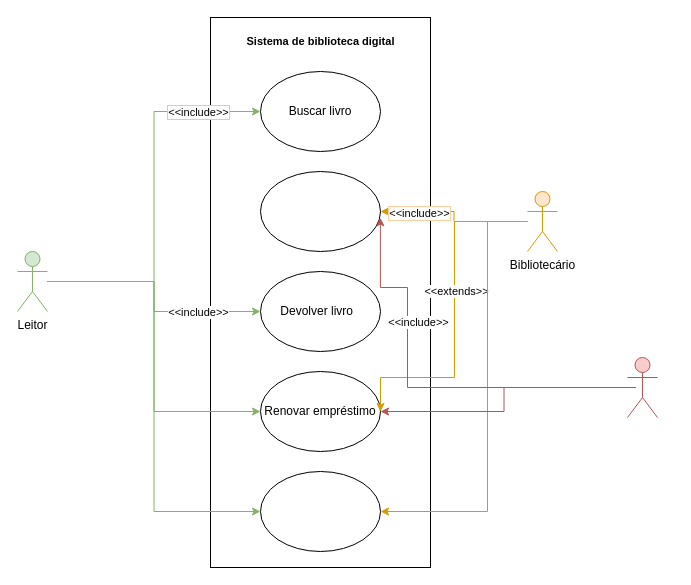
Image size: 691x585. Some labels were removed from this diagram. Here are the shapes that lost their labels. From the top down, the centre of each, then its label:
[320,211]: Emprestar livro
[642,387]: Sistema de Pagamento
[320,511]: Cadastrar usuário
